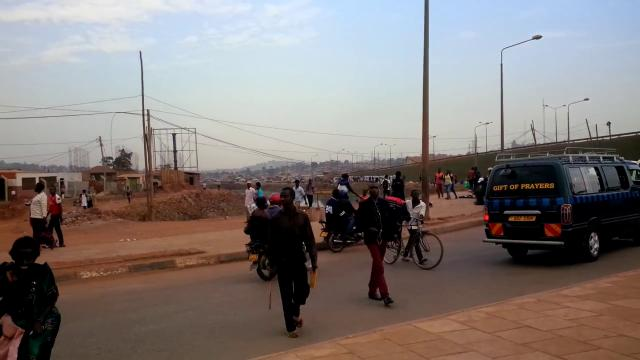van: (481, 146, 640, 263)
